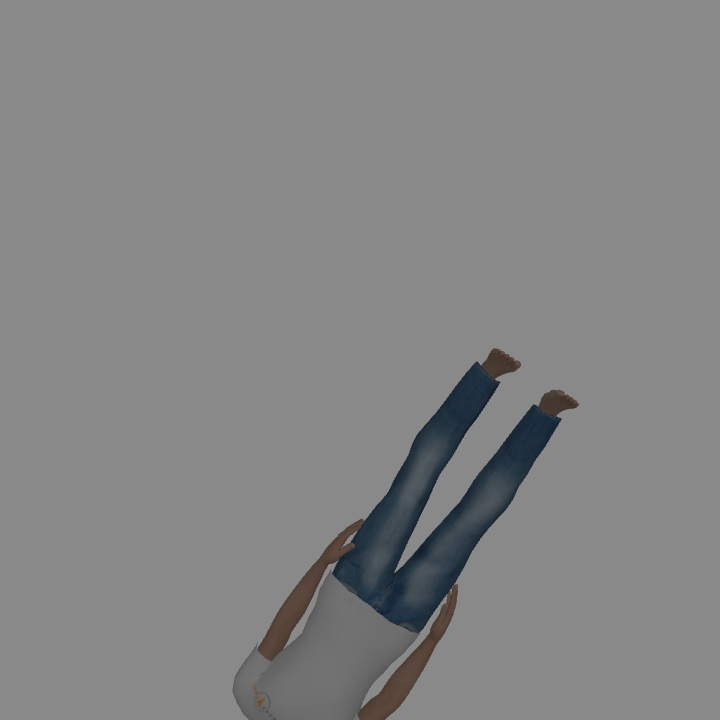victim: (234, 342, 576, 718)
